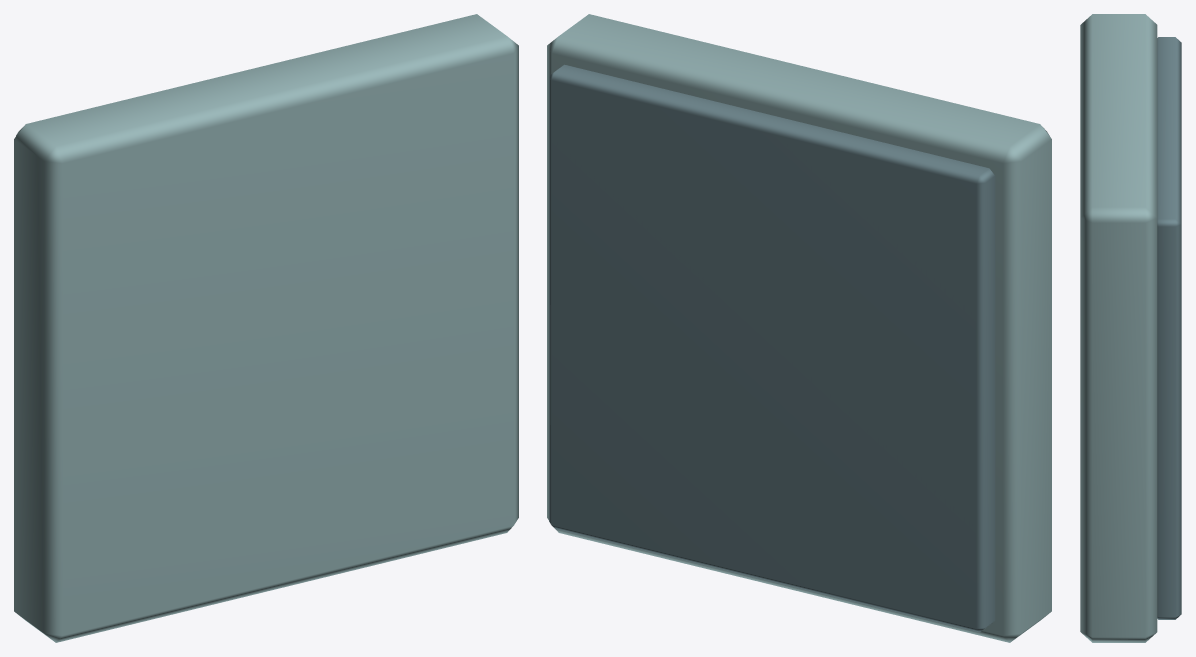
File: ground_tile.glb
3 renders of one model, left to right at view 1: azimuth 30°, elevation 25°; view 2: azimuth 150°, elevation 25°; view 3: azimuth 270°, elevation 25°, orthographic. The views are drawn at different scales.
Parts seen in each view (by area): view 1: Ground tile; view 2: Ground surface, Ground tile; view 3: Ground tile, Ground surface.
Part boxes in pixels (x1,y1,x2,y2): Ground tile: (14,14,518,642); Ground surface: (549,64,995,632); Ground tile: (547,14,1051,642); Ground tile: (1080,14,1157,642); Ground surface: (1157,37,1181,619).
Bounding box in the file's own units: 2 × 2 × 0.42.
